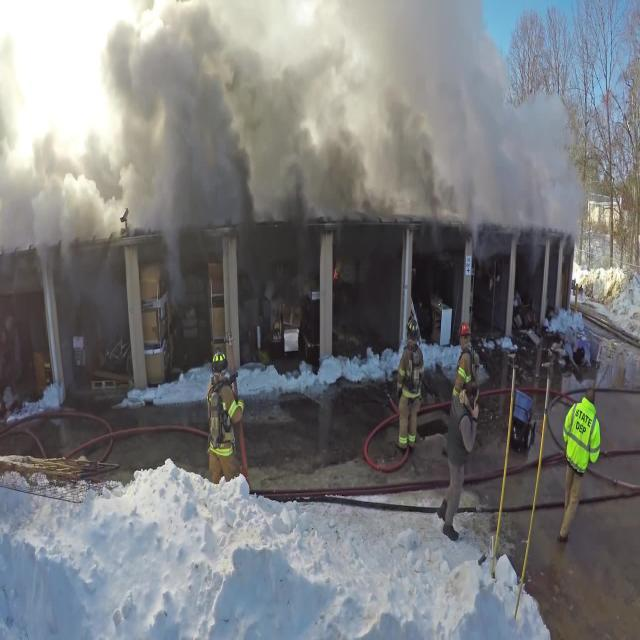Smoke: (0, 0, 593, 370)
